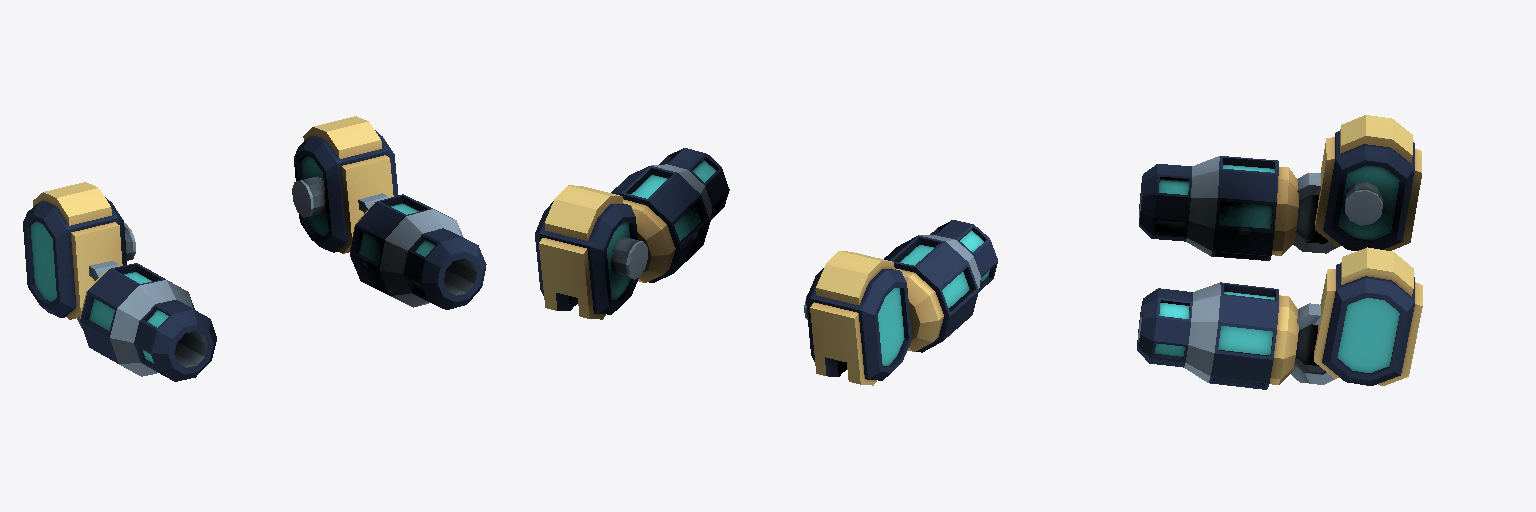
The picture shows the model from 3 angles: view 1: azimuth 30°, elevation 25°; view 2: azimuth 150°, elevation 25°; view 3: azimuth 270°, elevation 25°; orthographic projection.
Parts seen in each view (by area): view 1: Object030, Object031, Object029, Object028; view 2: Object028, Object029, Object031, Object030; view 3: Object031, Object030, Object028, Object029.
Boxes of the visible parts, box(x1,y1,x2,y2) form: Object030: box(77, 261, 216, 381); Object031: box(350, 193, 486, 309); Object029: box(23, 182, 135, 319); Object028: box(292, 116, 398, 253); Object028: box(535, 185, 647, 319); Object029: box(804, 251, 911, 385); Object031: box(611, 148, 729, 282); Object030: box(884, 220, 997, 352); Object031: box(1137, 282, 1336, 389); Object030: box(1139, 156, 1339, 260); Object028: box(1314, 247, 1422, 385); Object029: box(1315, 115, 1421, 250).
Size of the model in its own units: 338 by 117 by 234.
Materials: 1 (1 with a texture image).